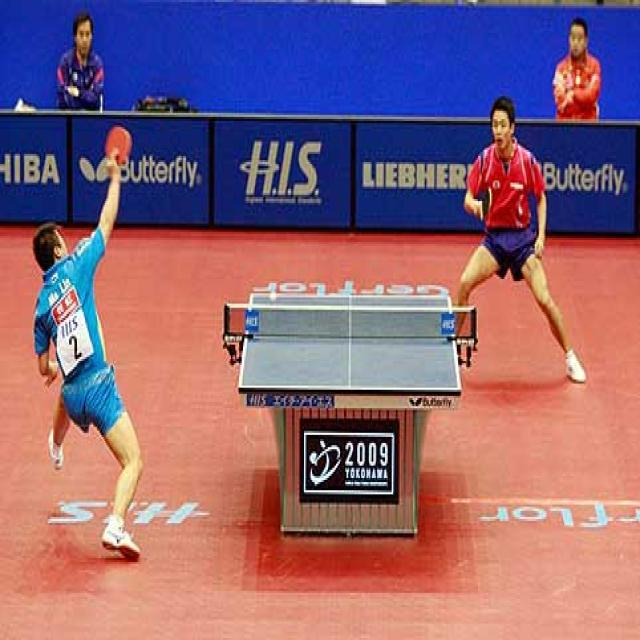TT Net: (220, 302, 479, 349)
TT Racket: (101, 116, 136, 170), (479, 183, 495, 225)
TT Table: (239, 293, 460, 391)
